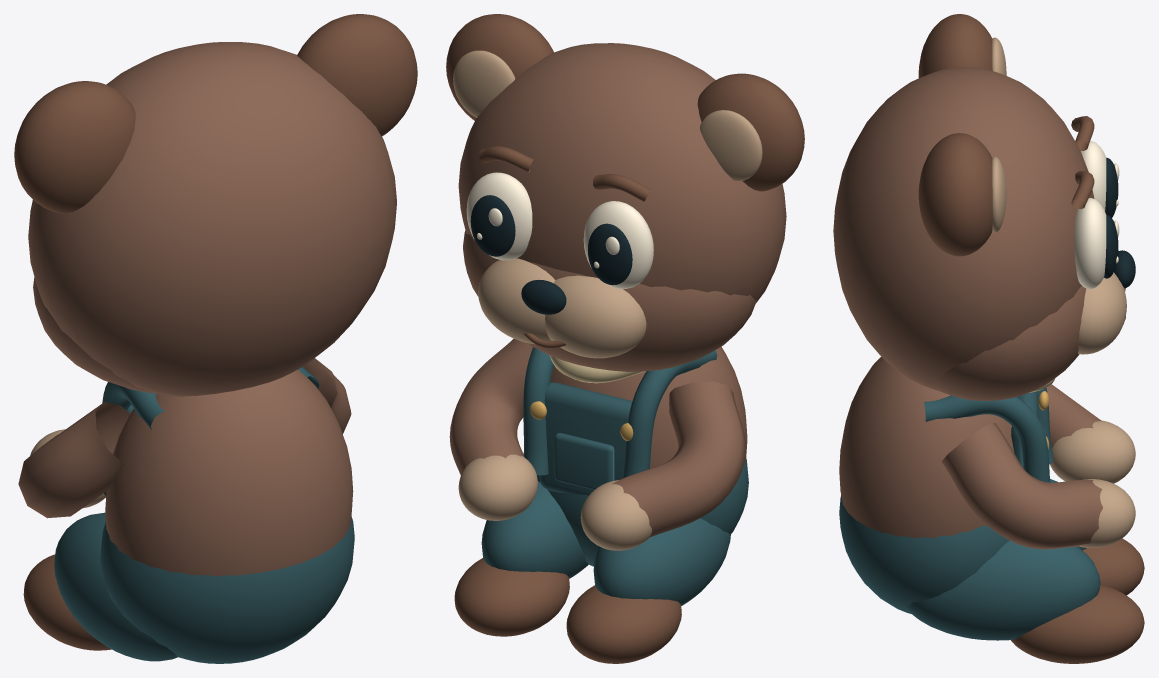
The model's file is ours.glb.
The picture shows the model from 3 angles, left to right: view 1: azimuth 30°, elevation 25°; view 2: azimuth 150°, elevation 25°; view 3: azimuth 270°, elevation 25°; orthographic projection. The views are drawn at different scales.
Visible parts, largest first — view 1: Crâne, Buste, Salopette, Oreille, Chaussure; view 2: Crâne, Salopette, Buste, Conque, Chaussure, Oreille, Patte, Blanc, Blanc.001, Iris.001, Iris, Nez (+1 smaller); view 3: Crâne, Buste, Salopette, Oreille, Chaussure, Patte, Conque, Blanc.001, Blanc, Iris.001, Iris, Nez.
Part boxes in pixels (x1,y1,x2,y2): Crâne: (28,42,396,396); Buste: (18,358,353,576); Salopette: (54,367,354,663); Oreille: (14,14,417,213); Chaussure: (23,554,111,650); Crâne: (458,43,786,371); Salopette: (481,347,748,605); Buste: (449,338,747,537); Conque: (453,50,762,358); Chaussure: (454,558,681,663); Oreille: (446,14,804,348); Patte: (458,454,651,550); Blanc: (583,201,653,288); Blanc.001: (466,172,532,260); Iris.001: (470,195,515,256); Iris: (588,223,632,285); Nez: (521,280,566,314); Crâne: (833,67,1094,400); Buste: (839,356,1102,549); Salopette: (839,387,1100,640); Oreille: (918,14,1125,320); Chaussure: (1011,538,1144,663); Patte: (1050,420,1135,548); Conque: (992,37,1126,354); Blanc.001: (1074,198,1119,288); Blanc: (1080,141,1119,210); Iris.001: (1104,215,1118,278); Iris: (1105,157,1118,217); Nez: (1114,250,1135,288).
Bounding box in the file's own units: 1.38 × 2.07 × 1.06.
